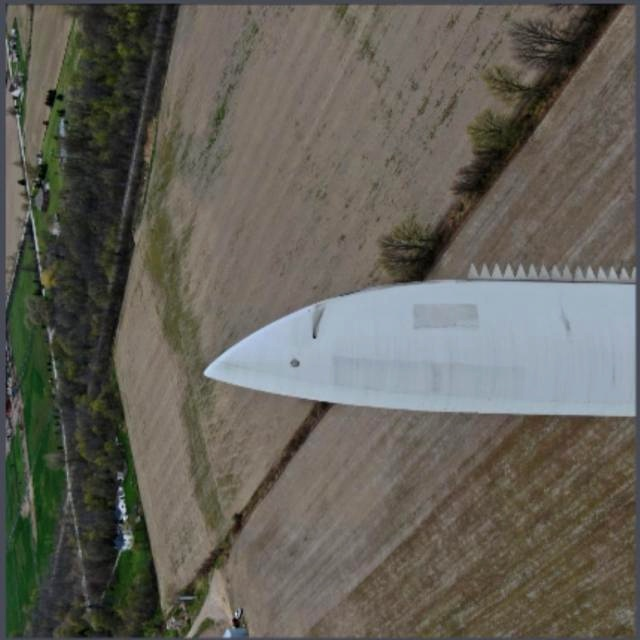Burn Mark: (312, 307, 325, 340)
Coating_defects: (290, 358, 305, 370)
